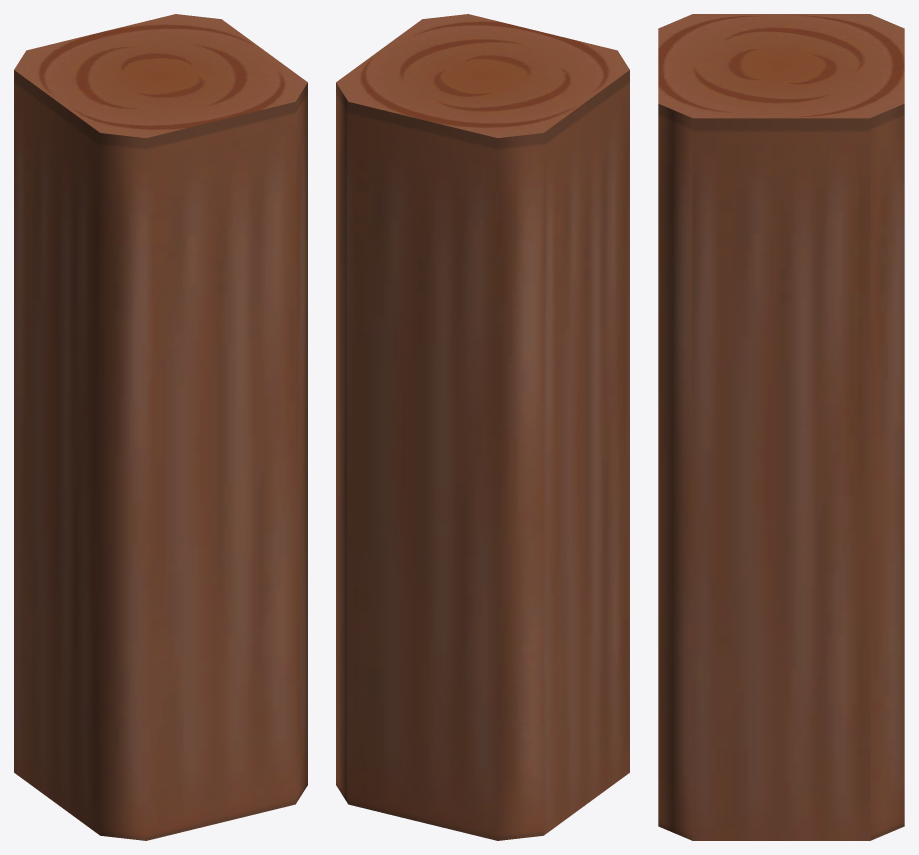
File: HardWoodFencePostHand.fbx
3 views of the same model, side by side, from view 1: azimuth 30°, elevation 25°; view 2: azimuth 150°, elevation 25°; view 3: azimuth 270°, elevation 25° (orthographic). The views are drawn at different scales.
Parts seen in each view (by area): view 1: FencePost; view 2: FencePost; view 3: FencePost.
Boxes of the visible parts, box(x1,y1,x2,y2) form: FencePost: box(14, 14, 307, 840); FencePost: box(336, 14, 629, 840); FencePost: box(658, 14, 904, 840).
Bounding box in the file's own units: 0.2705 × 0.8747 × 0.2705.
Materials: 1 (1 with a texture image).
